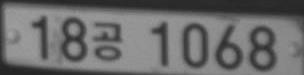0: (182, 21, 207, 66)
1: (150, 21, 171, 65), (31, 15, 50, 59)
6: (214, 24, 242, 68)
8: (249, 25, 275, 70), (60, 17, 86, 60)
공: (92, 21, 123, 60)
